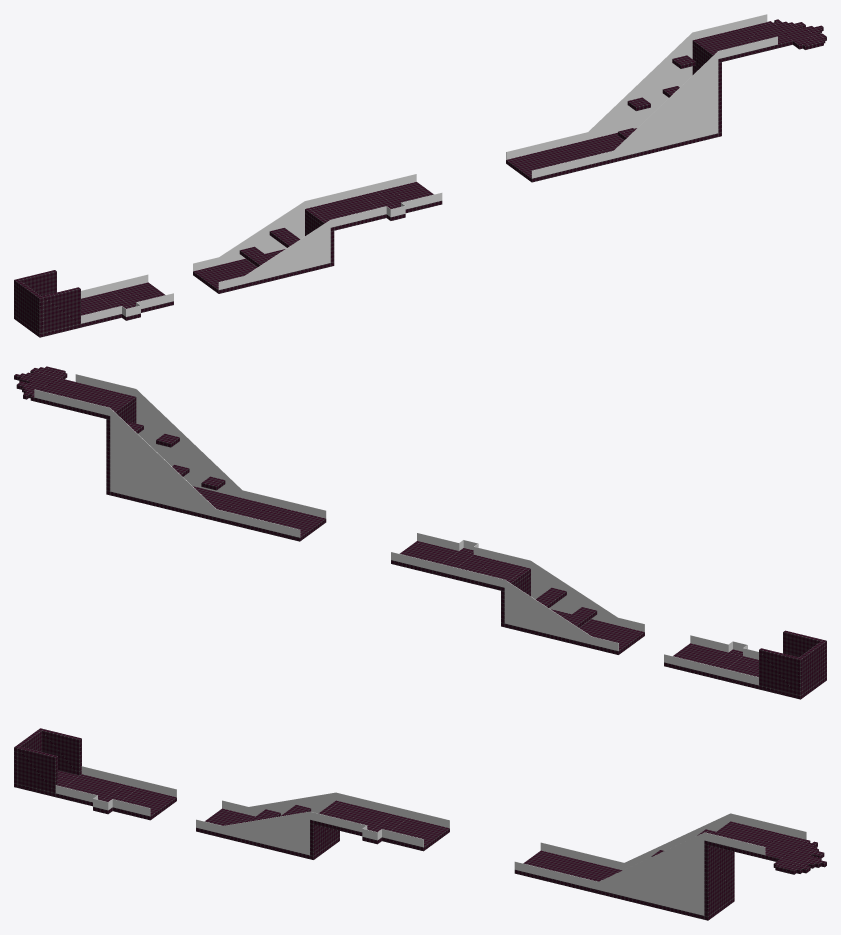
The model's file is Level1_platforms.fbx.
3 views of the same model, one above another, from view 1: azimuth 30°, elevation 25°; view 2: azimuth 150°, elevation 25°; view 3: azimuth 330°, elevation 25° (orthographic).
Parts seen in each view (by area): view 1: Barrier3, Barrier2, ThirdPlatform, SecondPlatform, SpawnPlatform, FirstPlatform, Barrier; view 2: Barrier3, Barrier2, ThirdPlatform, SecondPlatform, SpawnPlatform, FirstPlatform, Barrier; view 3: Barrier3, ThirdPlatform, Barrier2, SecondPlatform, SpawnPlatform, FirstPlatform, Barrier.
Boxes of the visible parts, x1=… form: Barrier3: x1=506, y1=14, x2=777, y2=178; Barrier2: x1=193, y1=174, x2=442, y2=289; ThirdPlatform: x1=506, y1=19, x2=826, y2=182; SecondPlatform: x1=193, y1=182, x2=442, y2=293; SpawnPlatform: x1=14, y1=270, x2=80, y2=337; FirstPlatform: x1=81, y1=282, x2=173, y2=327; Barrier: x1=81, y1=274, x2=173, y2=323; Barrier3: x1=34, y1=374, x2=326, y2=537; Barrier2: x1=391, y1=533, x2=644, y2=650; ThirdPlatform: x1=14, y1=366, x2=326, y2=541; SecondPlatform: x1=391, y1=541, x2=644, y2=654; SpawnPlatform: x1=759, y1=630, x2=826, y2=699; FirstPlatform: x1=664, y1=643, x2=758, y2=689; Barrier: x1=664, y1=635, x2=758, y2=685; Barrier3: x1=514, y1=813, x2=806, y2=915; ThirdPlatform: x1=514, y1=821, x2=826, y2=920; Barrier2: x1=196, y1=792, x2=449, y2=855; SecondPlatform: x1=196, y1=800, x2=449, y2=859; SpawnPlatform: x1=14, y1=728, x2=81, y2=797; FirstPlatform: x1=55, y1=774, x2=176, y2=820; Barrier: x1=55, y1=766, x2=176, y2=816.
Size of the model in its own units: 21200 by 3100 by 1600.
